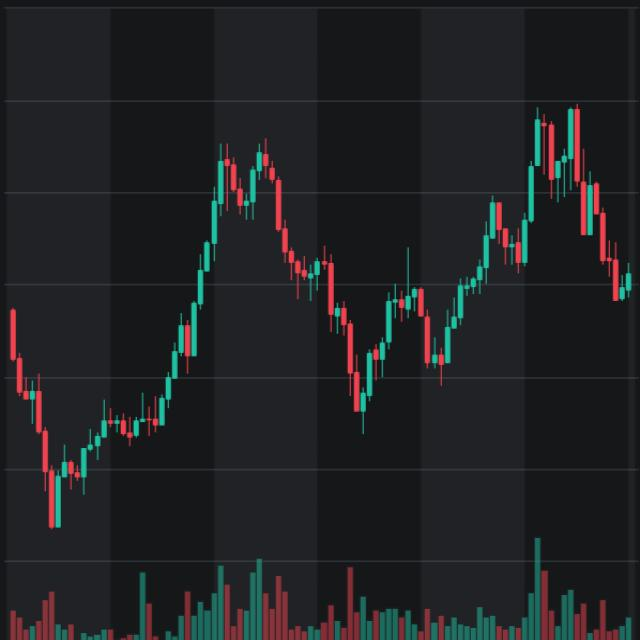Rising-Wedge: (287, 75, 611, 519)
